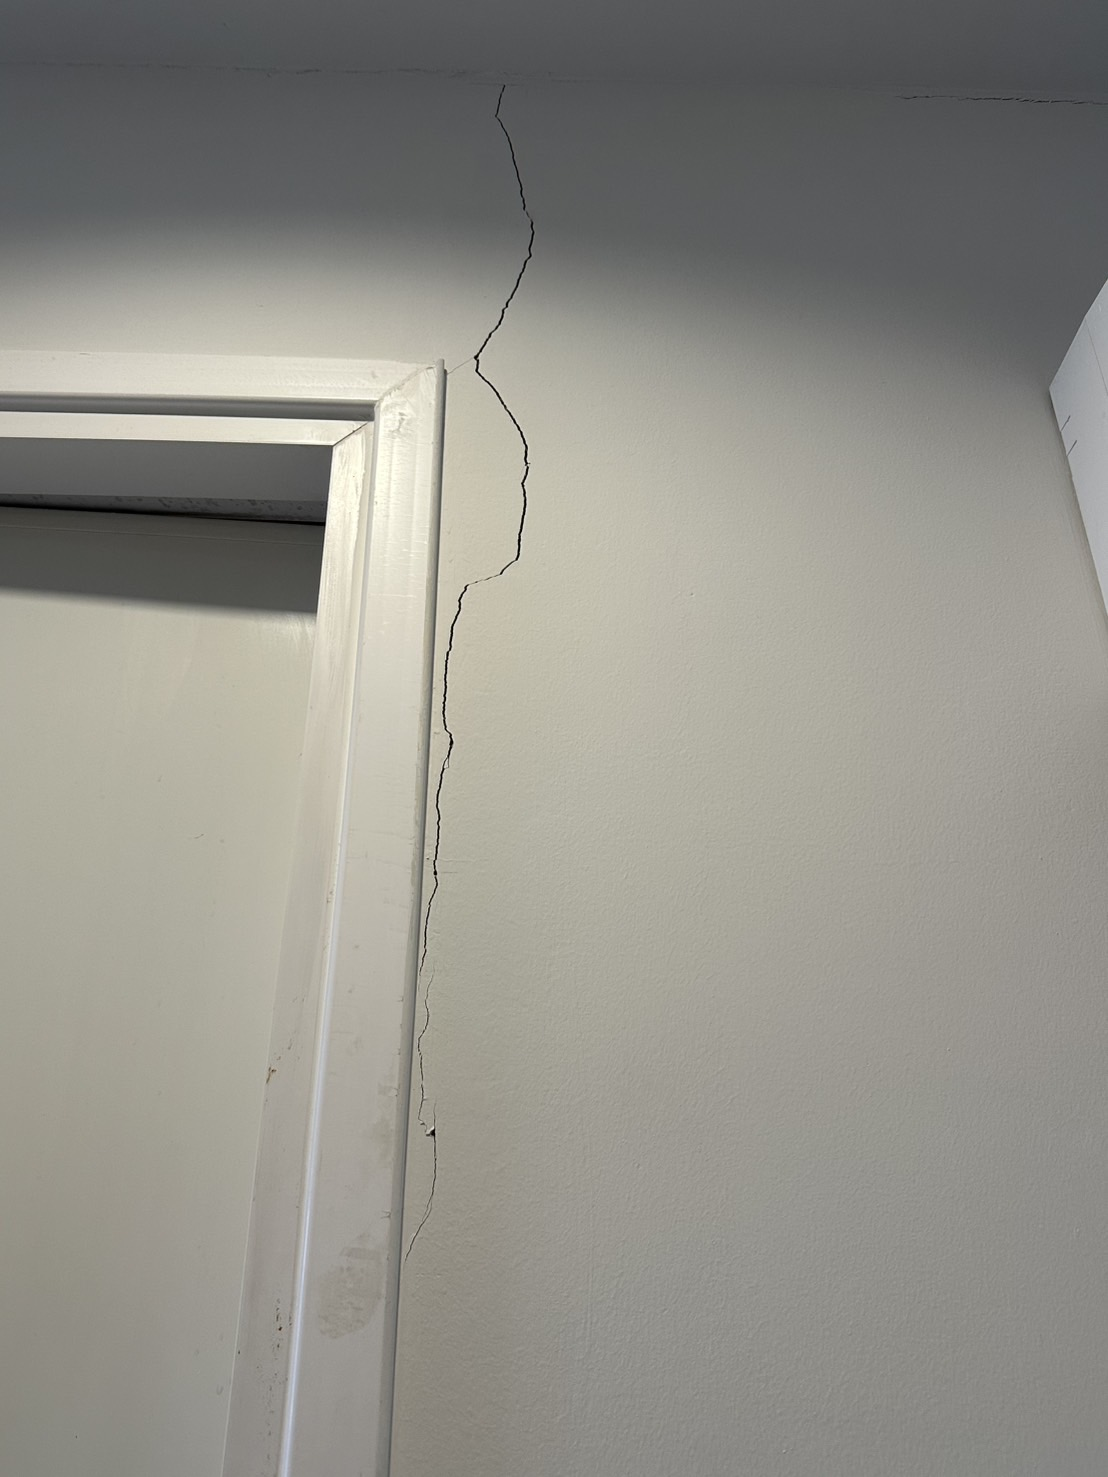Medium: (456, 145, 610, 601)
